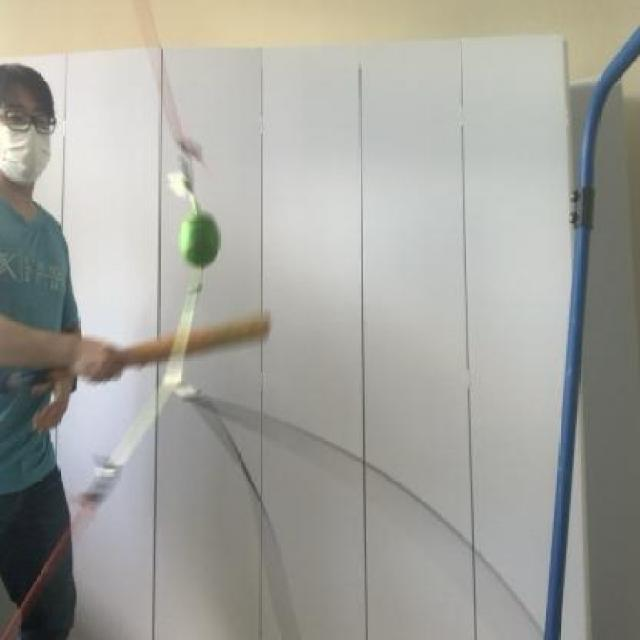baseball: (174, 204, 226, 273)
